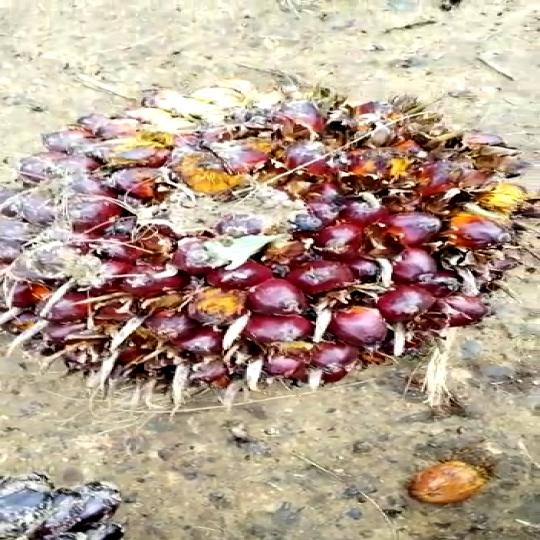masak: (0, 78, 540, 400)
